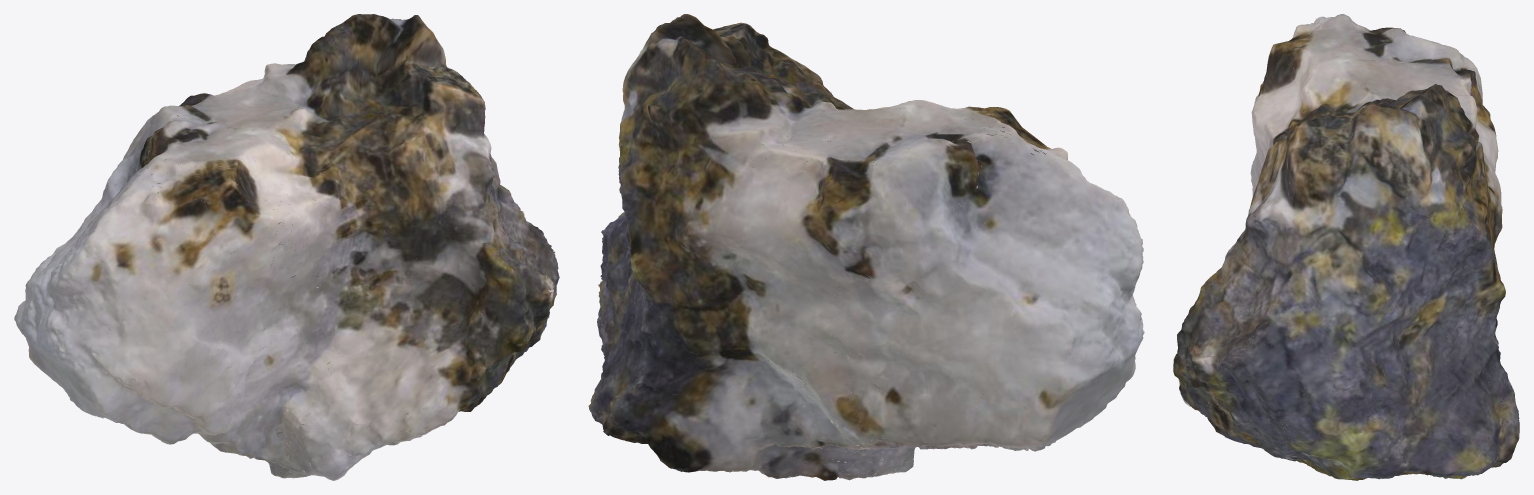
Rendered from galena.glb.
The picture shows the model from 3 angles, left to right: view 1: azimuth 30°, elevation 25°; view 2: azimuth 150°, elevation 25°; view 3: azimuth 270°, elevation 25°; orthographic projection. The views are drawn at different scales.
Visible parts, largest first — view 1: Object_2, Object_3, Object_4, Object_5; view 2: Object_2, Object_4, Object_3, Object_5; view 3: Object_4, Object_3, Object_2, Object_5.
Boxes of the visible parts, box(x1,y1,x2,y2) form: Object_2: box(14, 60, 557, 478); Object_3: box(89, 14, 559, 457); Object_4: box(136, 14, 559, 465); Object_5: box(104, 106, 370, 480); Object_2: box(588, 23, 1144, 473); Object_4: box(589, 14, 1029, 480); Object_3: box(591, 14, 1070, 478); Object_5: box(770, 107, 1059, 479); Object_4: box(1173, 39, 1518, 479); Object_3: box(1173, 14, 1519, 480); Object_2: box(1238, 14, 1510, 476); Object_5: box(1238, 14, 1466, 433).
Bounding box in the file's own units: 0.7904 × 0.6011 × 0.4605.
Materials: 1 (1 with a texture image).
